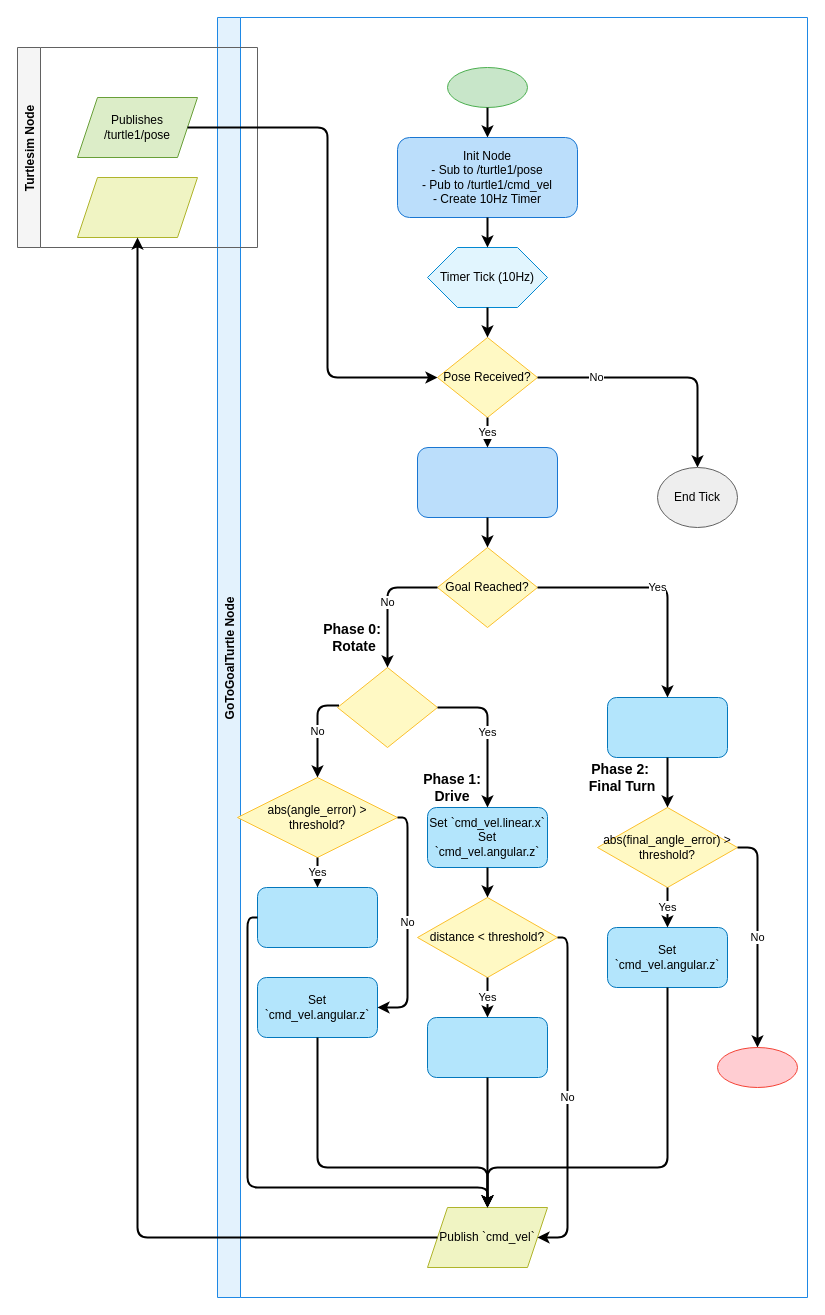
This 825x1315 diagram has some shape labels left out. Each missing label, with the centre of its shape:
Angle Aligned?: point (387, 707)
Calculate `final_angle_error`: point (667, 727)
Calculate: - distance to goal - angle_error: point (487, 482)
Set `is_first_phase_done = true`: point (317, 917)
Set `is_goal_reached = true`: point (487, 1047)
Shutdown: point (757, 1067)
Start: point (487, 87)
Subscribes to /turtle1/cmd_vel: point (137, 207)
